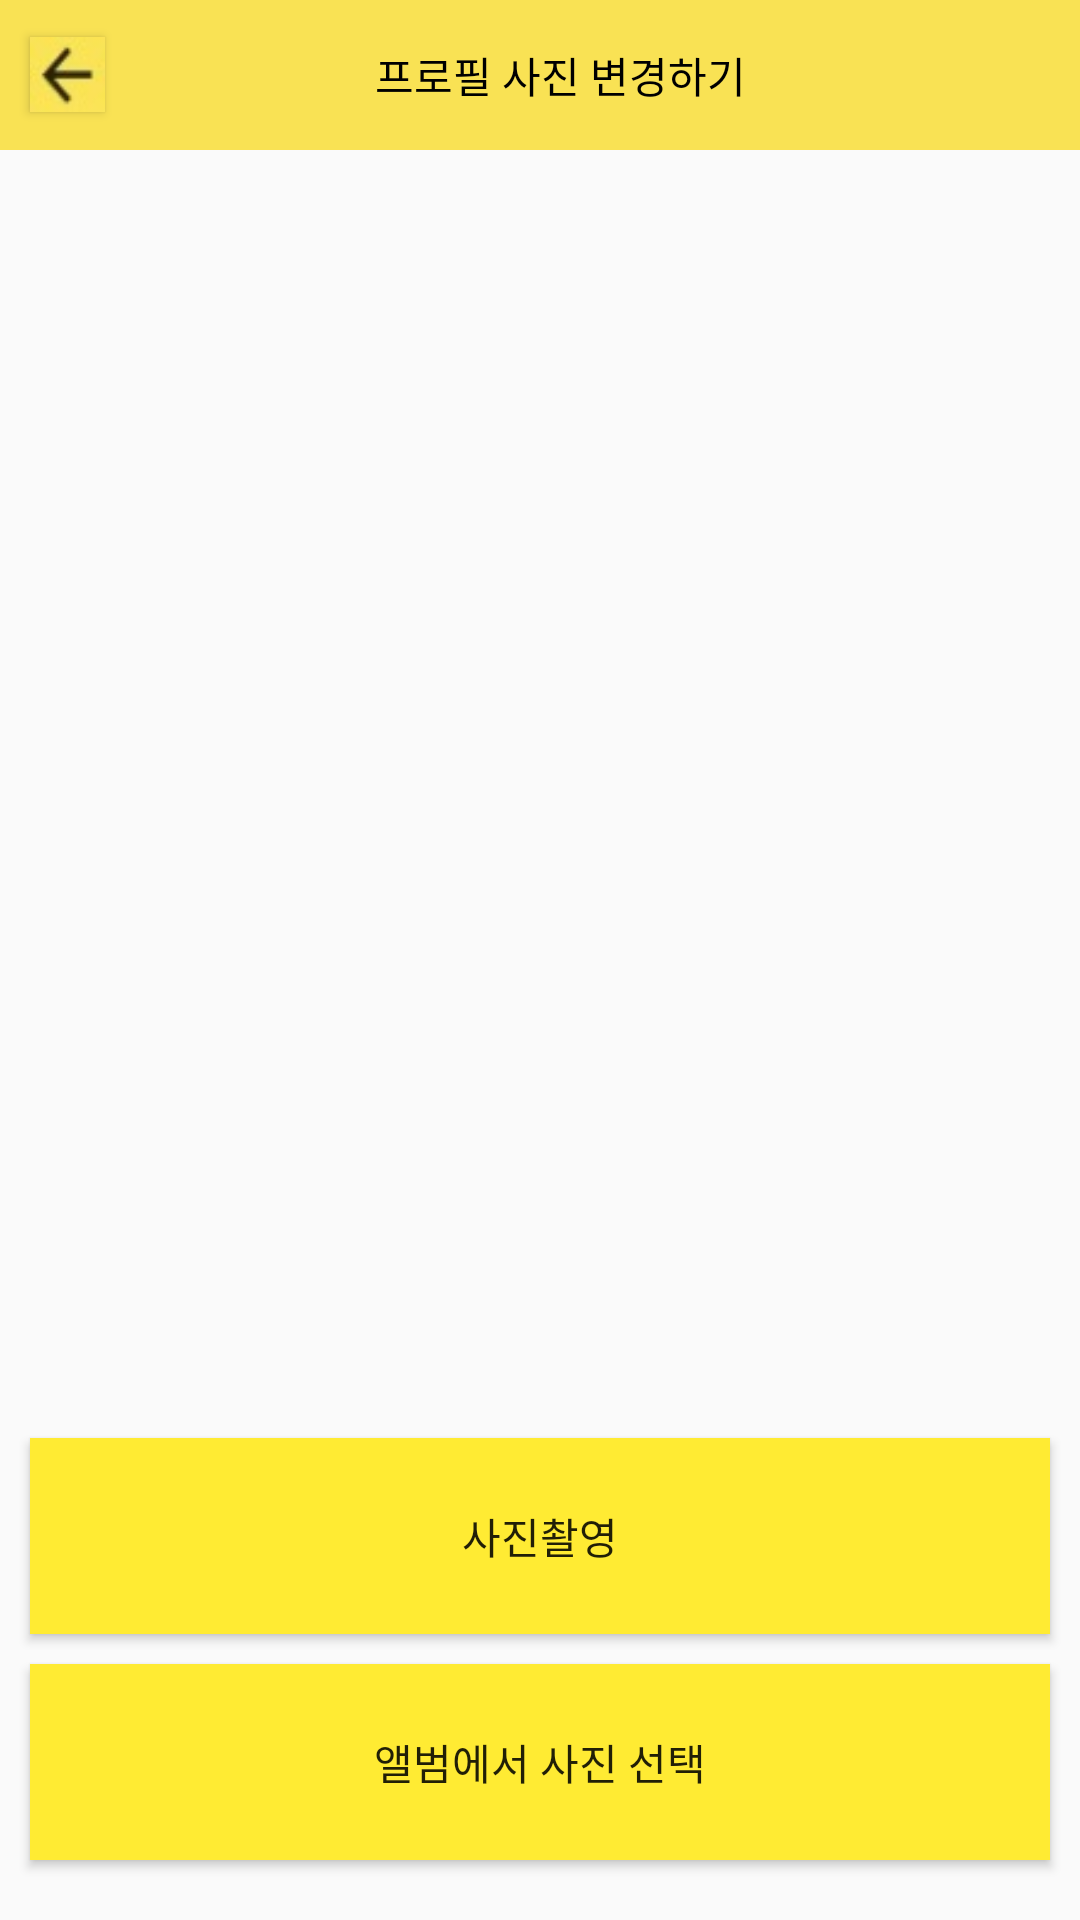

Icon click points for this 1080 × 1920 phone screenshot, format [x,y]:
back: [67,75]
